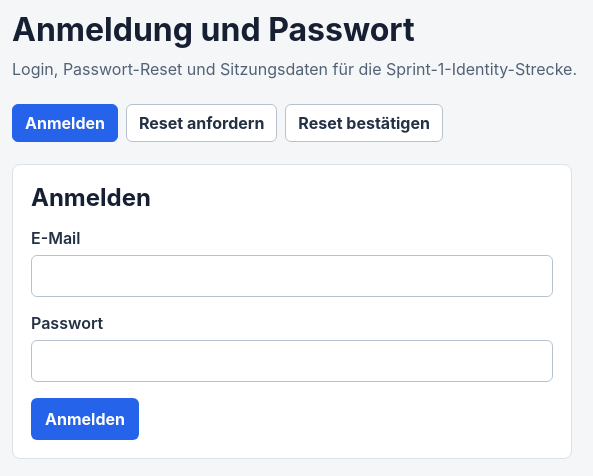
Test: Sprint 1 auth UI › renders login, reset request, and reset confirm actions in German
Expected: the number of buttons "Anmelden" is 2, x1=12 y1=104 x2=118 y2=142; x1=31 y1=398 x2=139 y2=440
Click the button "Reset anfordern".
click(202, 123)  # box x1=126 y1=104 x2=277 y2=142
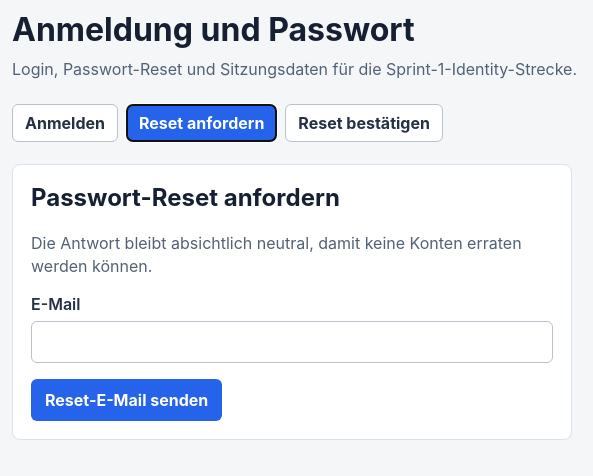
Expected: the heading "Passwort-Reset anfordern" is shown, x1=31 y1=183 x2=340 y2=212
Click the button "Reset bestätigen".
click(364, 123)  # box x1=285 y1=104 x2=443 y2=142
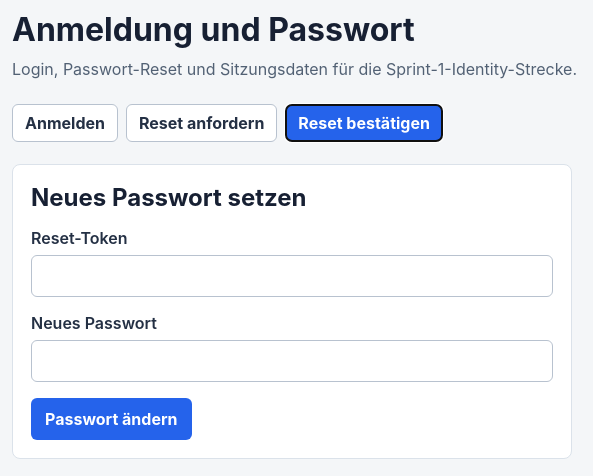
Expected: the heading "Neues Passwort setzen" is shown, x1=31 y1=183 x2=307 y2=212
